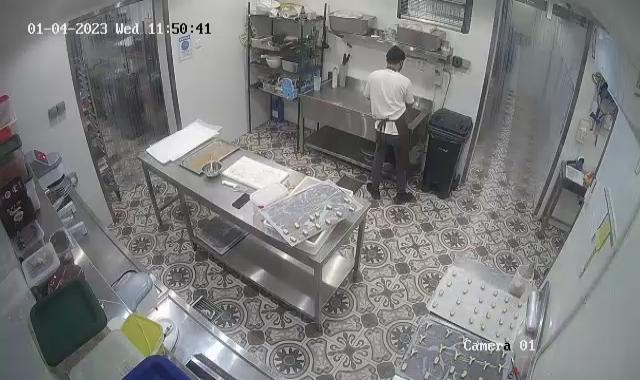no_hairnet: (386, 44, 406, 68)
